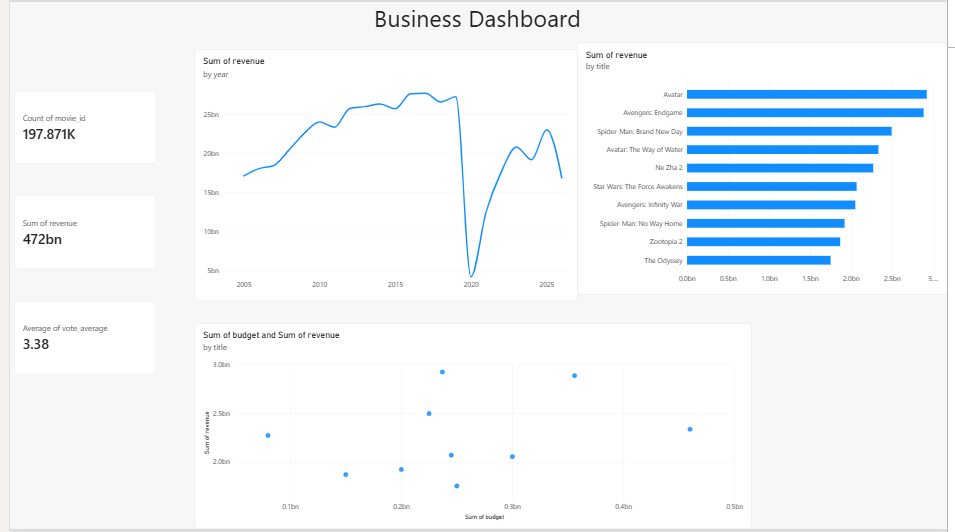

What the dashboard file says about the page in this screenshot:
{"tool":"powerbi","page":{"name":"Page 1","canvas":[1920,1080],"ordinal":0},"visuals":[{"type":"textbox","box":[480.4,0,960.8,102.6],"z":0},{"type":"cardVisual","fields":{"Data":["_Measures.Total Profit"]},"box":[1633.1,86.3,243.3,176.4],"z":1000},{"type":"cardVisual","fields":{"Data":["_Measures.Average ROI"]},"box":[433.8,86.3,243.3,176.4],"z":2000},{"type":"cardVisual","fields":{"Data":["_Measures.Total Revenue"]},"box":[1237.9,86.3,243.3,176.4],"z":3000},{"type":"cardVisual","fields":{"Data":["_Measures.Total Movies"]},"box":[840.4,86.3,243.3,176.4],"z":4000},{"type":"cardVisual","fields":{"Data":["_Measures.Average Rating"]},"box":[34.1,86.3,243.3,176.4],"z":5000},{"type":"slicer","fields":{"Values":["dim_movies.status"]},"box":[839.4,298.1,255.5,275.8],"z":6000},{"type":"slicer","fields":{"Values":["dim_date.year"]},"box":[411.6,298.1,377,174.9],"z":7000},{"type":"slicer","fields":{"Values":["dim_genre.genre_name"]},"box":[1142.5,297.5,751.8,274.8],"z":8000},{"type":"barChart","fields":{"Category":["dim_genre.genre_name"],"Y":["_Measures.Total Revenue"]},"box":[35,435,485,617.5],"z":9000},{"type":"lineStackedColumnComboChart","fields":{"Category":["dim_movies.release_year"],"Y":["_Measures.Total Revenue","_Measures.Total Profit"]},"box":[600,607.5,580,440],"z":9001},{"type":"scatterChart","fields":{"Category":["dim_movies.original_title"],"Size":["_Measures.Avg Popularity"],"X":["_Measures.budget"],"Y":["_Measures.Total Revenue"]},"box":[1280,608,584,410],"z":9002}]}

Visuals, with their boxes in screenshot pixels (x1, y1, x2, y2), scaled from the page's 1920x1080 canvas onto the 955x532 screenshot:
textbox: region(239, 0, 717, 51)
cardVisual - _Measures.Total Profit: region(812, 43, 933, 129)
cardVisual - _Measures.Average ROI: region(216, 43, 337, 129)
cardVisual - _Measures.Total Revenue: region(616, 43, 737, 129)
cardVisual - _Measures.Total Movies: region(418, 43, 539, 129)
cardVisual - _Measures.Average Rating: region(17, 43, 138, 129)
slicer - dim_movies.status: region(418, 147, 545, 283)
slicer - dim_date.year: region(205, 147, 392, 233)
slicer - dim_genre.genre_name: region(568, 147, 942, 282)
barChart - dim_genre.genre_name x _Measures.Total Revenue: region(17, 214, 259, 518)
lineStackedColumnComboChart - dim_movies.release_year x _Measures.Total Revenue: region(298, 299, 587, 516)
scatterChart - dim_movies.original_title x _Measures.Avg Popularity: region(637, 299, 927, 501)
